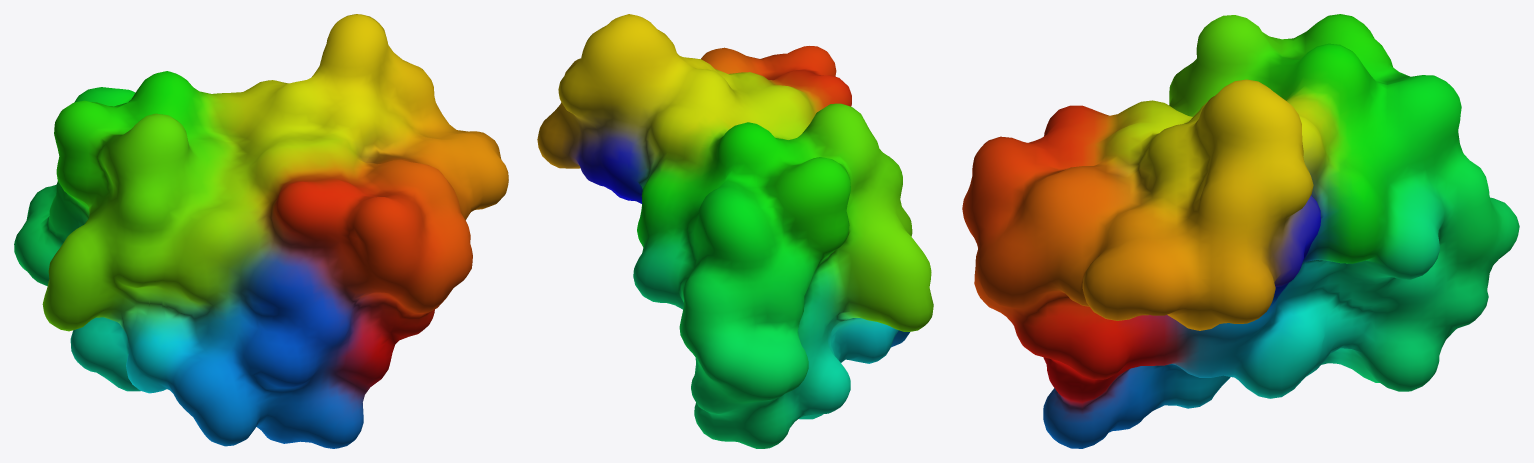
The model's file is SE_1CRN.fbx.
3 views of the same model, side by side, from view 1: azimuth 30°, elevation 25°; view 2: azimuth 150°, elevation 25°; view 3: azimuth 270°, elevation 25° (orthographic). The views are drawn at different scales.
Parts seen in each view (by area): view 1: 1CRN_0; view 2: 1CRN_0; view 3: 1CRN_0.
Part boxes in pixels (x1,y1,x2,y2): 1CRN_0: (14, 14, 508, 448); 1CRN_0: (537, 14, 933, 448); 1CRN_0: (962, 14, 1519, 448).
Bounding box in the file's own units: 30.77 × 25.33 × 30.67.
